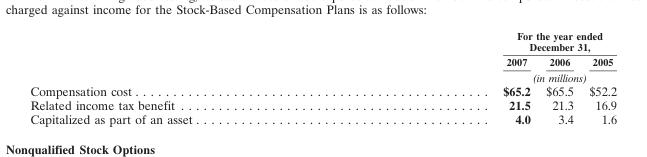table: (29, 29, 616, 126)
table column: (29, 29, 347, 126), (347, 29, 537, 126), (537, 29, 580, 126), (580, 29, 616, 126)
table column header: (29, 29, 616, 82)
table row: (29, 29, 616, 53), (29, 53, 616, 69), (29, 82, 616, 97), (29, 111, 616, 126), (29, 97, 616, 111), (29, 69, 616, 82)
table spanning cell: (347, 29, 616, 53), (347, 69, 616, 82)
